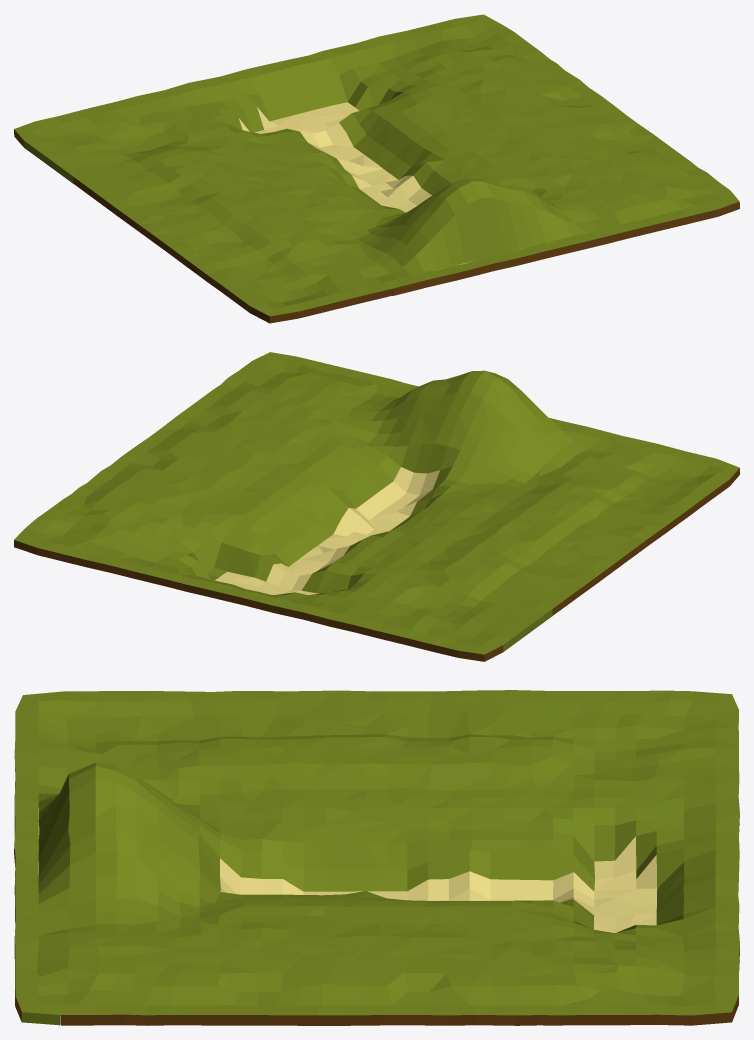
File: Terrain.fbx
The picture shows the model from 3 angles, top to bottom: view 1: azimuth 30°, elevation 25°; view 2: azimuth 150°, elevation 25°; view 3: azimuth 270°, elevation 25°; orthographic projection. The views are drawn at different scales.
Visible parts, largest first — view 1: Base, Section1, Section3, Section2, Section4, Section5; view 2: Base, Section1, Section3, Section2, Section5, Section4; view 3: Base, Section3, Section1, Section2, Section4, Section5.
Part boxes in pixels (<box>): Base: <box>14,43,739,295</box>; Section1: <box>150,200,392,323</box>; Section3: <box>475,106,729,213</box>; Section2: <box>73,148,370,239</box>; Section4: <box>400,58,614,162</box>; Section5: <box>357,14,548,111</box>; Base: <box>136,352,621,661</box>; Section1: <box>436,436,739,558</box>; Section3: <box>137,359,376,466</box>; Section2: <box>373,499,630,615</box>; Section5: <box>14,494,256,579</box>; Section4: <box>72,446,326,520</box>; Base: <box>14,690,739,1025</box>; Section3: <box>38,900,403,1025</box>; Section1: <box>14,690,344,842</box>; Section2: <box>303,690,574,843</box>; Section4: <box>324,900,561,1025</box>; Section5: <box>510,901,739,1025</box>.
Bounding box in the file's own units: 123 × 116 × 24.09.
